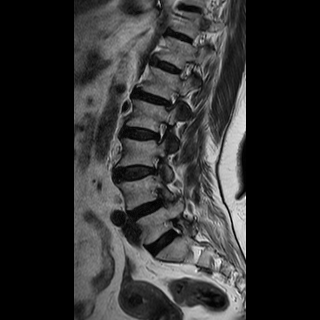LFS0: (147, 117, 175, 149)
